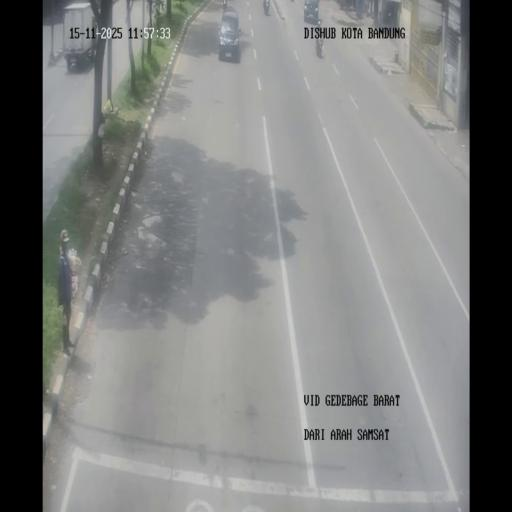3: (60, 2, 96, 71)
car: (218, 8, 240, 62), (304, 0, 322, 25)
truck: (316, 36, 324, 58), (264, 0, 270, 15)
